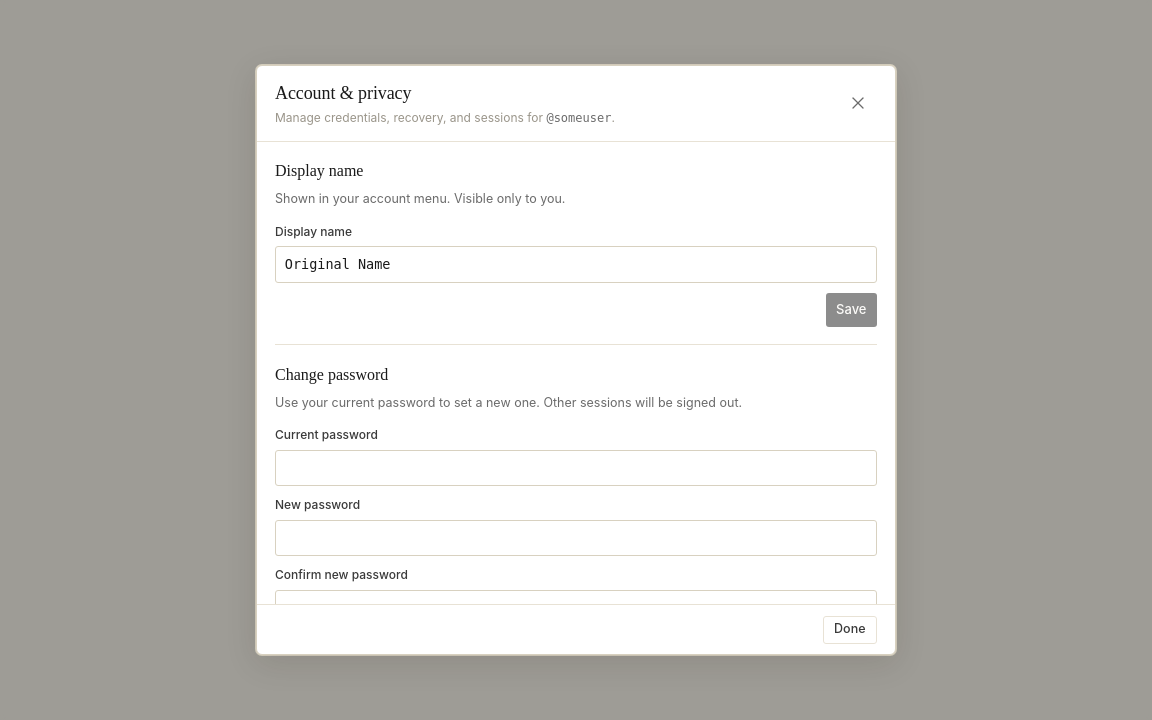
Test: AccountPrivacyModal — Display name section › on success: posts trimmed name, updates session store, re-disables Save
Replace the text in the field labelled "Display name" with "   New Name   " at (576, 264), box [275,246,877,283]
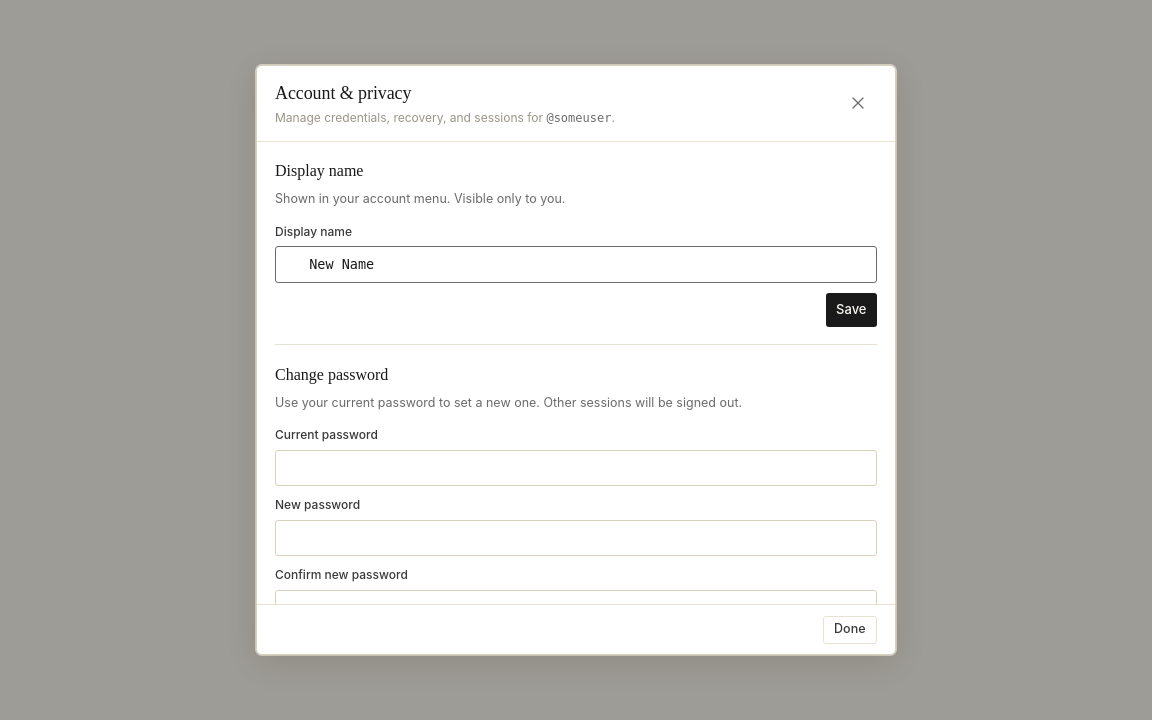
Click the button with aria-label "save display name" at (851, 310), box [826,293,877,326]
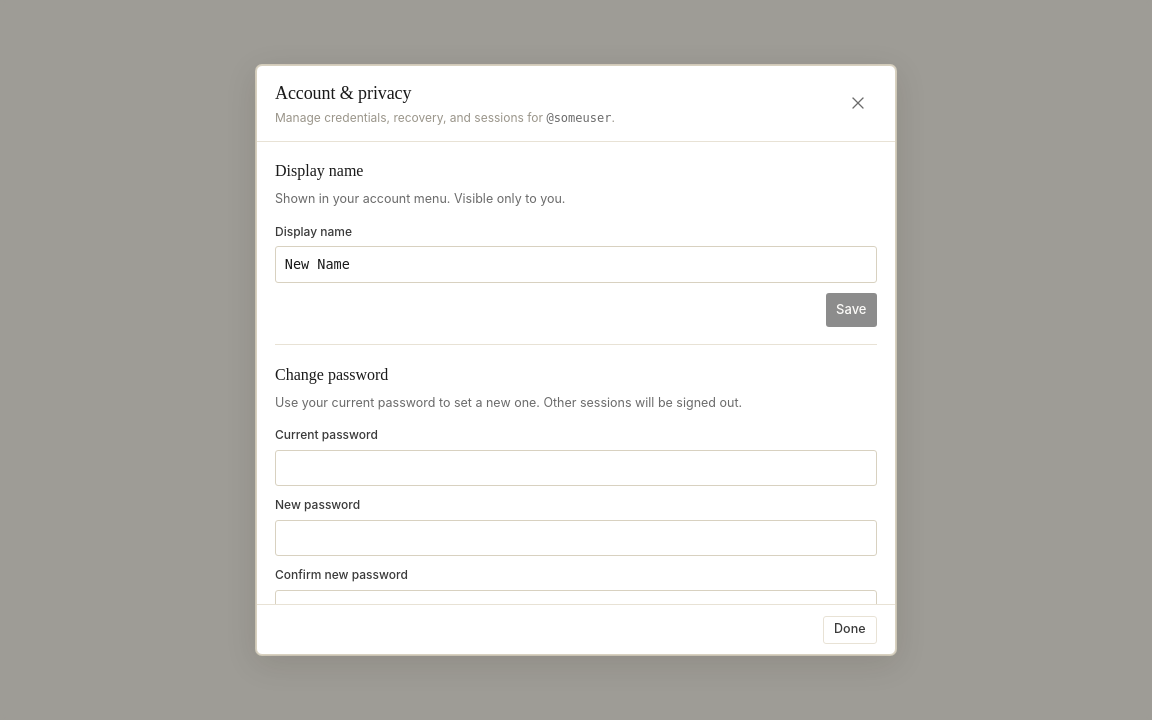
Expected: the button with aria-label "save display name" is disabled, [826,293,877,326]
